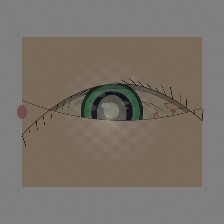corneal_ulcer: (81, 89, 142, 138)
